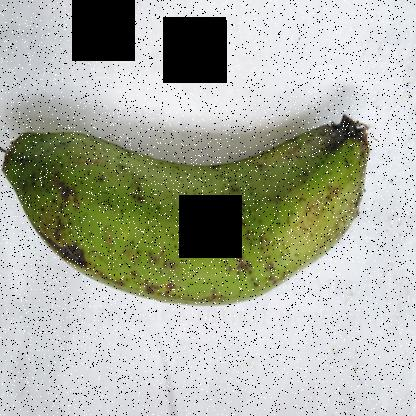unripe: (1, 88, 383, 328)
